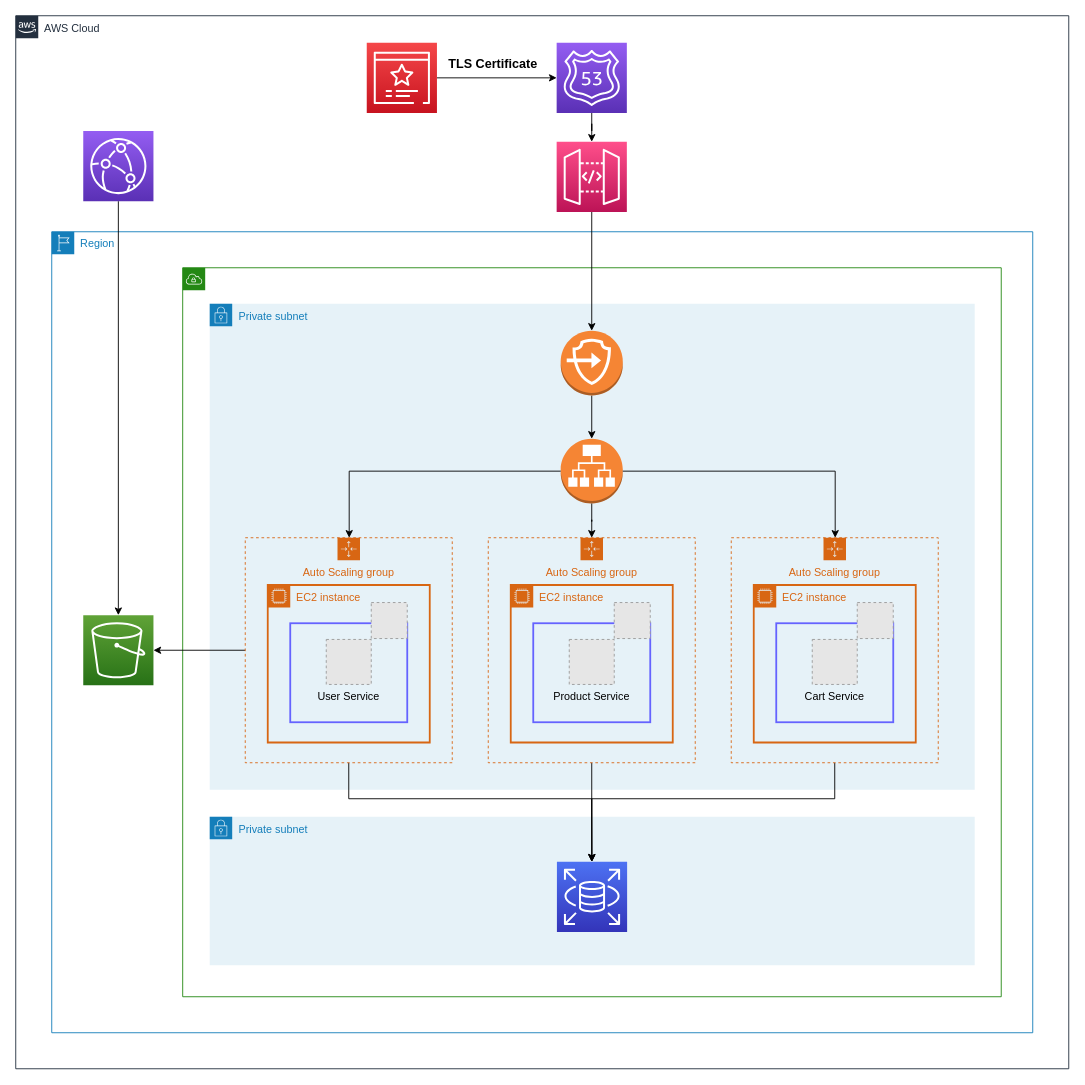
Image size: 1085x1085. Some labels were removed from this diagram. Grey dashed boxes stand in for pictures. Each missing label, with the box of its shape:
Certificate Manager: (366, 42, 437, 113)
Route 53: (556, 42, 627, 113)
VPC: (182, 267, 1001, 997)
